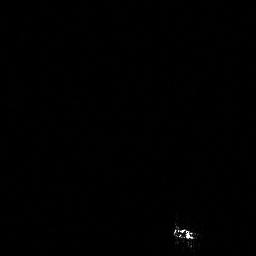ship: (170, 221, 200, 246)
